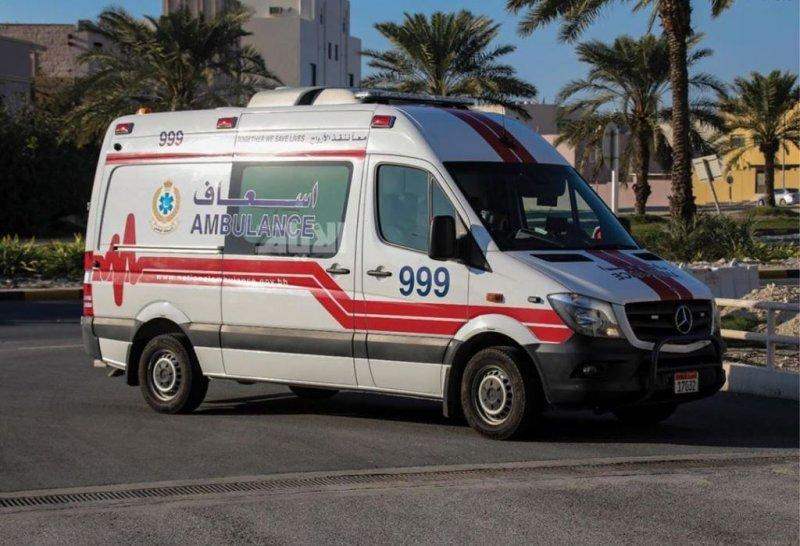ambulance_off: (86, 84, 718, 435)
